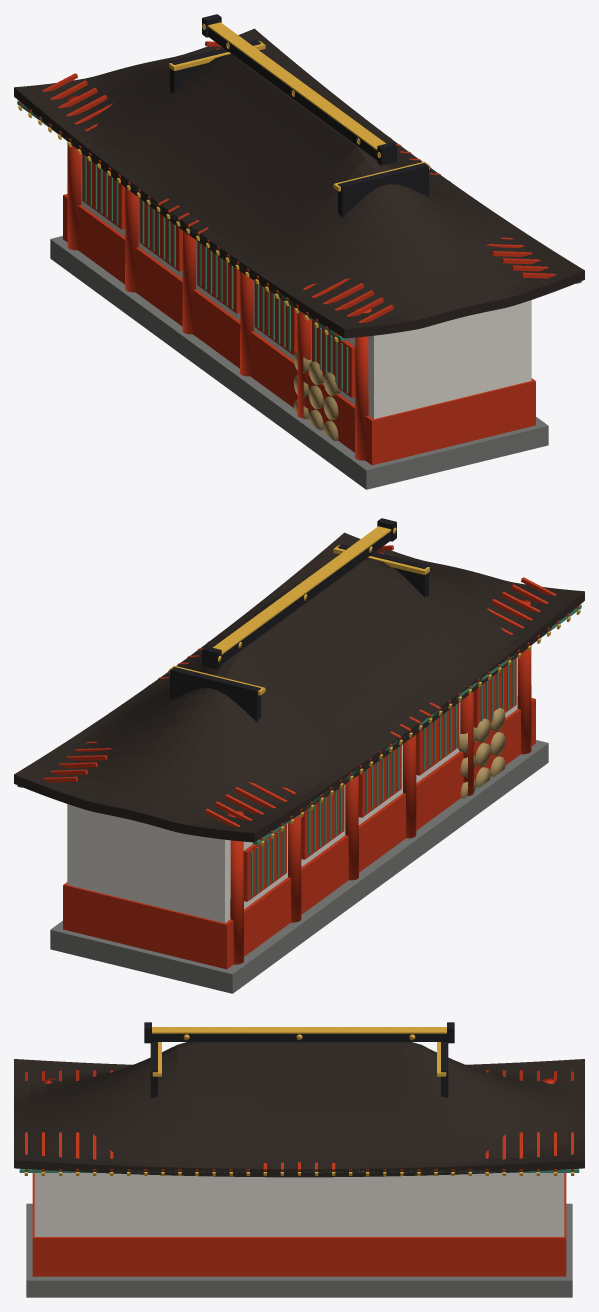
Rendered from Asset_05_Kairo_Corridor_Wing.fbx.
3 renders of one model, top to bottom at view 1: azimuth 30°, elevation 25°; view 2: azimuth 150°, elevation 25°; view 3: azimuth 270°, elevation 25°, orthographic. The views are drawn at different scales.
Visible parts, largest first — view 1: Z01_Kairo_North_Roof, Z01_Kairo_North_Wainscot, Z01_Kairo_North_Wall, Z01_Kairo_North_Base, Z01_Kairo_North_Roof_Ridge_Gold_Cap, Z01_Kairo_North_Roof_Gable_Pediment_-1, Z01_Kairo_North_Roof_Ridge_Beam, Z01_Kairo_North_Col_0, Z01_Kairo_North_WinFrame_0, Z01_Kairo_North_WinFrame_4, Z01_Kairo_North_WinFrame_1, Z01_Kairo_North_WinFrame_2 (+7 smaller); view 2: Z01_Kairo_North_Roof, Z01_Kairo_North_Wainscot, Z01_Kairo_North_Wall, Z01_Kairo_North_Base, Z01_Kairo_North_Roof_Ridge_Gold_Cap, Z01_Kairo_North_Roof_Gable_Pediment_1, Z01_Kairo_North_Roof_Ridge_Beam, Z01_Kairo_North_WinFrame_4, Z01_Kairo_North_Col_5, Z01_Kairo_North_WinFrame_3, Z01_Kairo_North_WinFrame_2, Z01_Kairo_North_WinFrame_1 (+8 smaller); view 3: Z01_Kairo_North_Roof, Z01_Kairo_North_Wall, Z01_Kairo_North_Wainscot, Z01_Kairo_North_Base, Z01_Kairo_North_Roof_Ridge_Beam, Z01_Kairo_North_Roof_Ridge_Gold_Cap, Z01_Kairo_North_Roof_Copper_Gutter_2.8, Z01_Kairo_North_Roof_Gable_Pediment_-1, Z01_Kairo_North_Roof_Gable_Pediment_1.
Part boxes in pixels (box(x1,y1,x2,y2)): Z01_Kairo_North_Roof: box(14, 28, 584, 338); Z01_Kairo_North_Wainscot: box(63, 194, 535, 465); Z01_Kairo_North_Wall: box(67, 141, 531, 419); Z01_Kairo_North_Base: box(50, 236, 548, 489); Z01_Kairo_North_Roof_Ridge_Gold_Cap: box(207, 22, 385, 150); Z01_Kairo_North_Roof_Gable_Pediment_-1: box(338, 163, 428, 217); Z01_Kairo_North_Roof_Ridge_Beam: box(208, 27, 377, 159); Z01_Kairo_North_Col_0: box(355, 308, 371, 460); Z01_Kairo_North_WinFrame_0: box(312, 320, 355, 397); Z01_Kairo_North_WinFrame_4: box(82, 153, 125, 229); Z01_Kairo_North_WinFrame_1: box(254, 281, 297, 355); Z01_Kairo_North_WinFrame_2: box(197, 241, 240, 313); Z01_Kairo_North_Roof: box(14, 532, 584, 842); Z01_Kairo_North_Wainscot: box(63, 698, 535, 969); Z01_Kairo_North_Wall: box(67, 645, 531, 923); Z01_Kairo_North_Base: box(50, 740, 548, 993); Z01_Kairo_North_Roof_Ridge_Gold_Cap: box(213, 526, 391, 654); Z01_Kairo_North_Roof_Gable_Pediment_1: box(170, 667, 260, 722); Z01_Kairo_North_Roof_Ridge_Beam: box(221, 531, 390, 663); Z01_Kairo_North_WinFrame_4: box(243, 824, 286, 901); Z01_Kairo_North_Col_5: box(227, 810, 243, 964); Z01_Kairo_North_WinFrame_3: box(301, 785, 344, 859); Z01_Kairo_North_WinFrame_2: box(358, 745, 401, 817); Z01_Kairo_North_WinFrame_1: box(416, 702, 459, 775); Z01_Kairo_North_Roof: box(14, 1042, 584, 1177); Z01_Kairo_North_Wall: box(34, 1173, 564, 1236); Z01_Kairo_North_Wainscot: box(32, 1173, 566, 1276); Z01_Kairo_North_Base: box(26, 1203, 572, 1297); Z01_Kairo_North_Roof_Ridge_Beam: box(152, 1033, 446, 1041); Z01_Kairo_North_Roof_Ridge_Gold_Cap: box(152, 1027, 446, 1033); Z01_Kairo_North_Roof_Copper_Gutter_2.8: box(19, 1168, 579, 1172); Z01_Kairo_North_Roof_Gable_Pediment_-1: box(150, 1042, 157, 1098); Z01_Kairo_North_Roof_Gable_Pediment_1: box(441, 1042, 448, 1097).
Size of the model in its own units: 590 by 623 by 1380.
8 materials, 1 textured.
